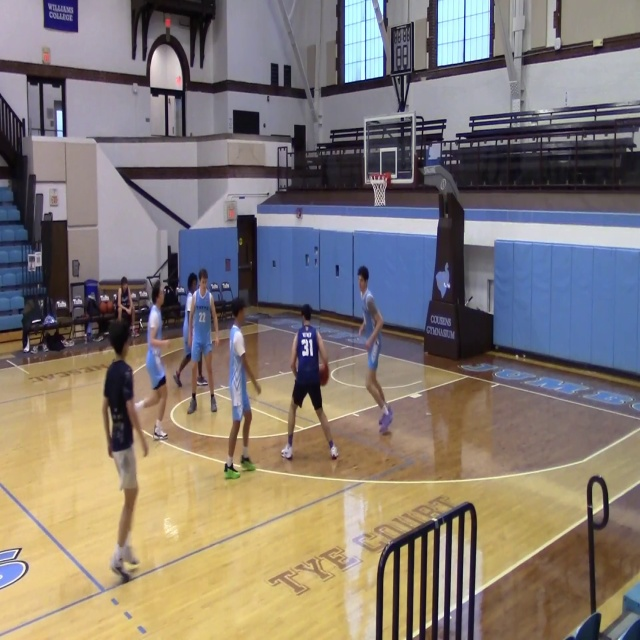Basketball: (318, 363, 329, 385), (99, 296, 112, 313)
